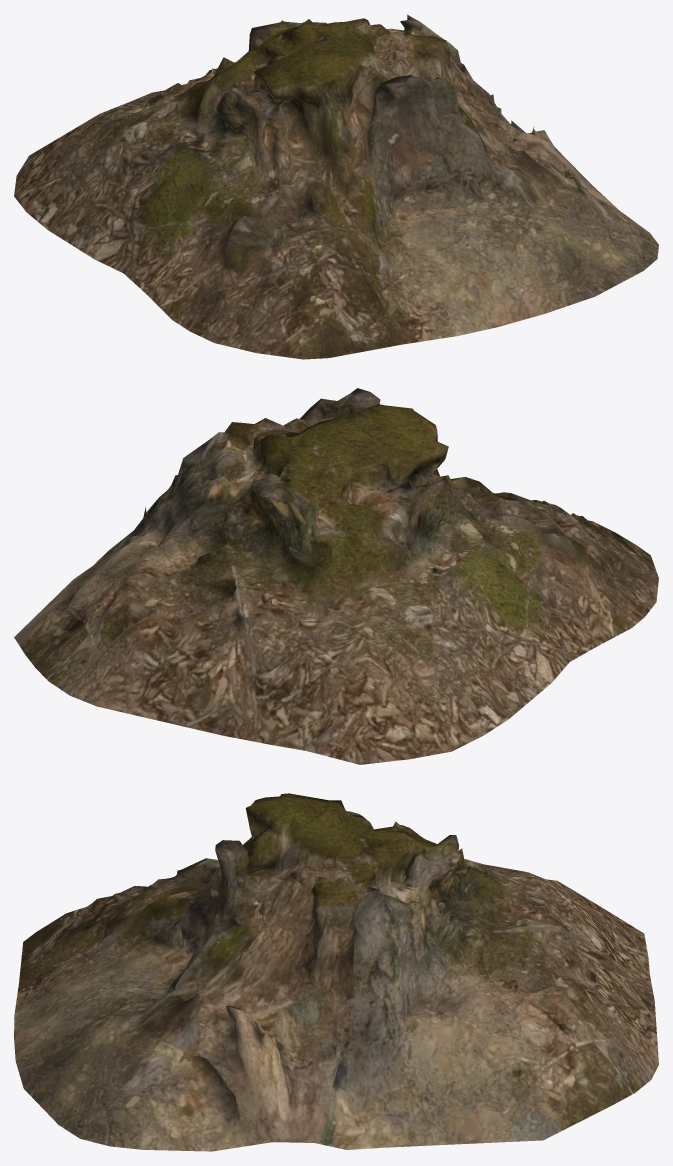
The model's file is tree_stump_01.glb.
3 views of the same model, one above another, from view 1: azimuth 30°, elevation 25°; view 2: azimuth 150°, elevation 25°; view 3: azimuth 270°, elevation 25° (orthographic). The views are drawn at different scales.
Parts seen in each view (by area): view 1: tree_stump_01; view 2: tree_stump_01; view 3: tree_stump_01.
Boxes of the visible parts, x1,y1,x2,y2 form: tree_stump_01: [14, 14, 658, 359]; tree_stump_01: [14, 388, 658, 764]; tree_stump_01: [14, 793, 658, 1151].
Size of the model in its own units: 1.43 by 0.571 by 1.59.
Materials: 1 (1 with a texture image).
